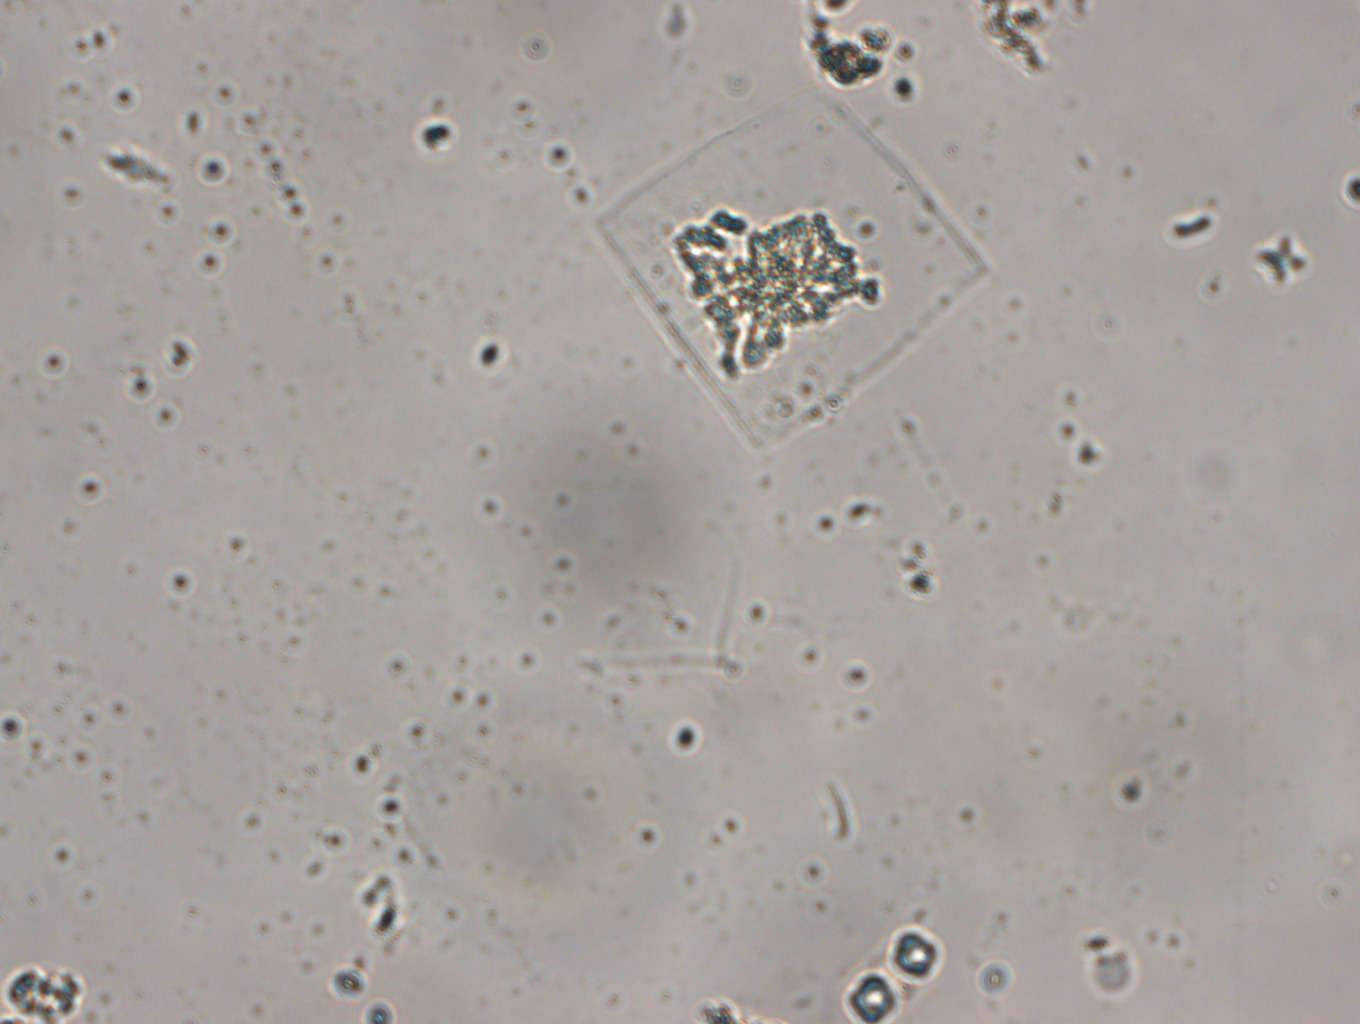helicotheca: (591, 82, 994, 463)
